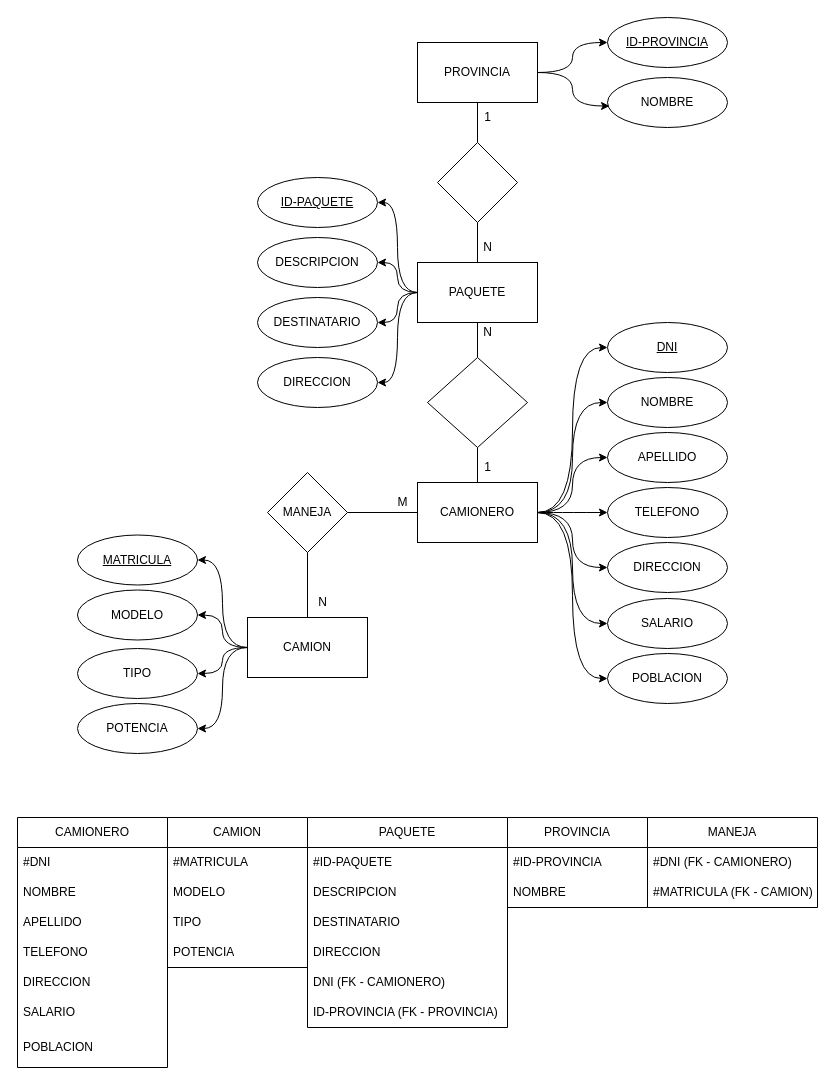
This 835x1085 diagram has some shape labels left out. The shapes that lost their labels are listed below. From the top down, each one's centre as x and y in pixels, then its label:
(x=477, y=182): LLEGÓ A
(x=477, y=402): DISTRIBUIDO POR
